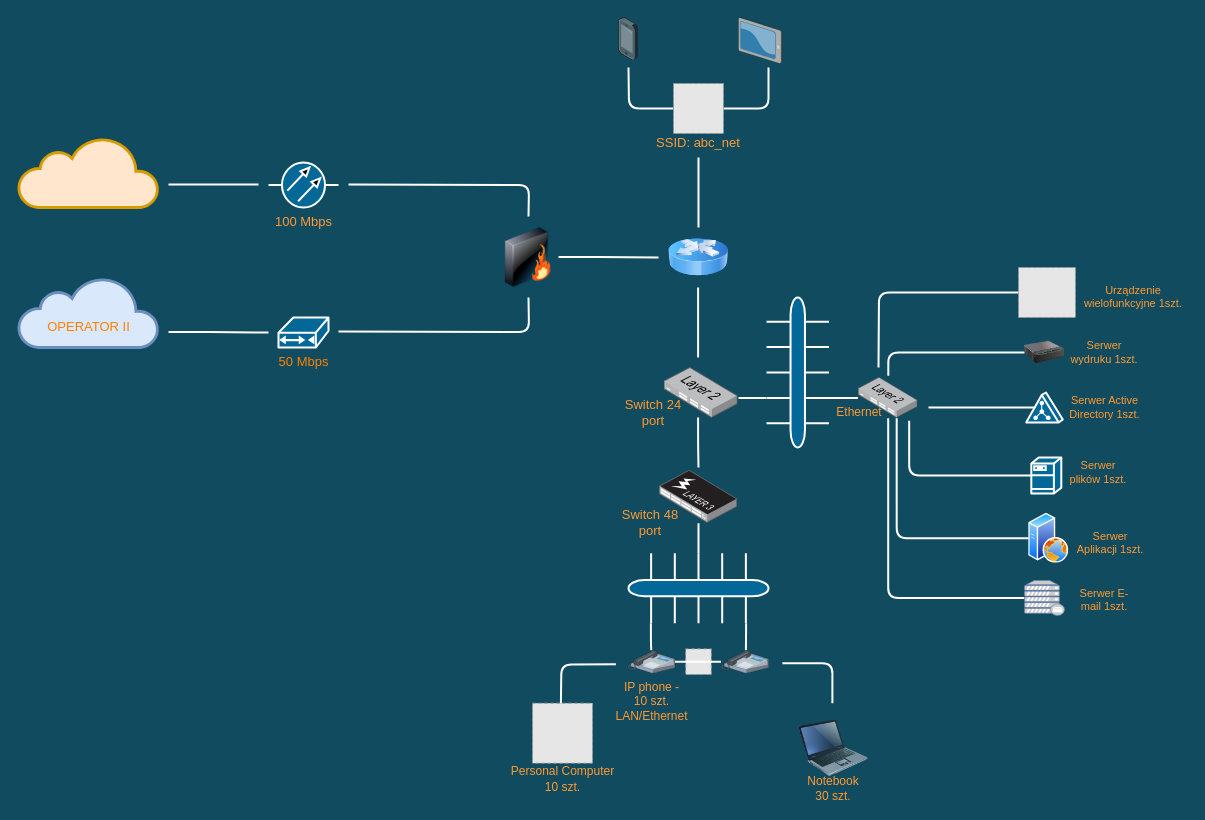
Some shapes in this 1205 by 820 pixel diagram are drawn without their labels. Grey dashed boxes stand in for pictures. Here are the shapes that lost their labels. From the top down, the centre of each, then its label:
At point (88, 172): "OPERATOR I".
At point (744, 661): "IP phone - 30 szt. LAN/Ethernet".
